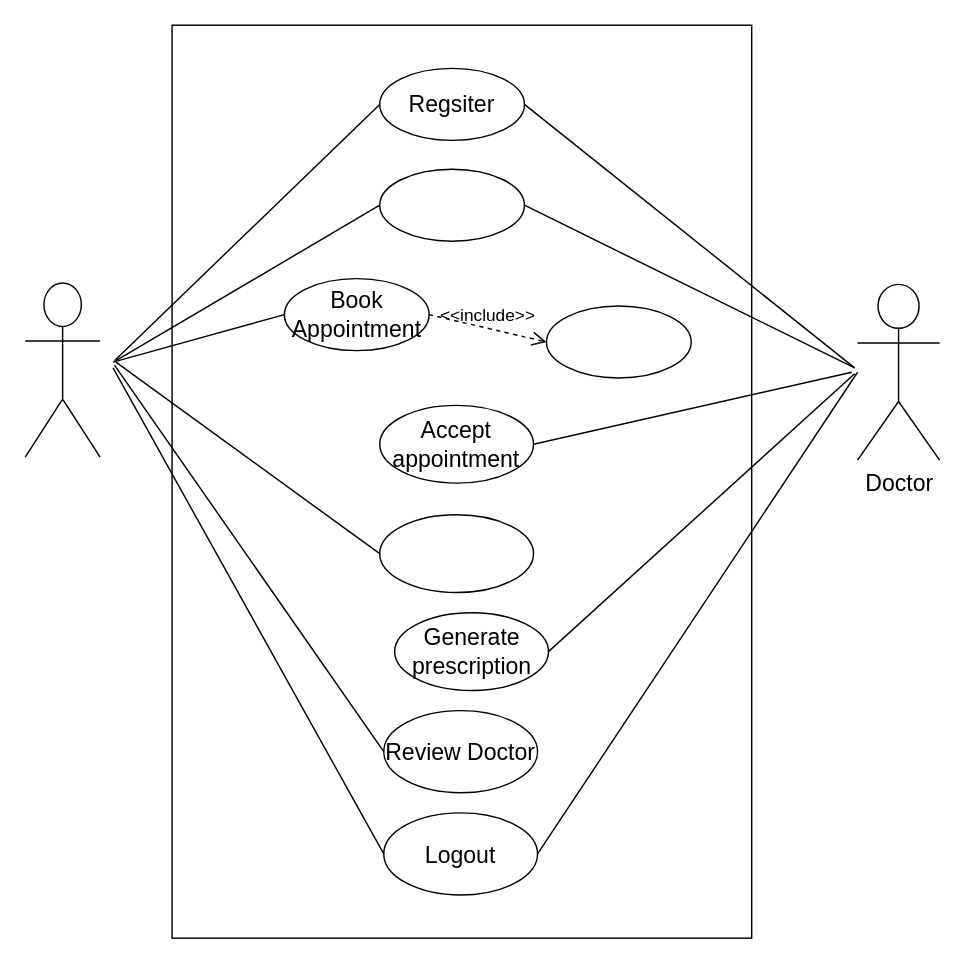
Some shapes in this 965 by 963 pixel diagram are drawn without their labels. Each missing label, with the centre of its shape:
Choose doctor type: point 618,341
Login: point 451,204
Payment: point 456,553
User: point 62,369
